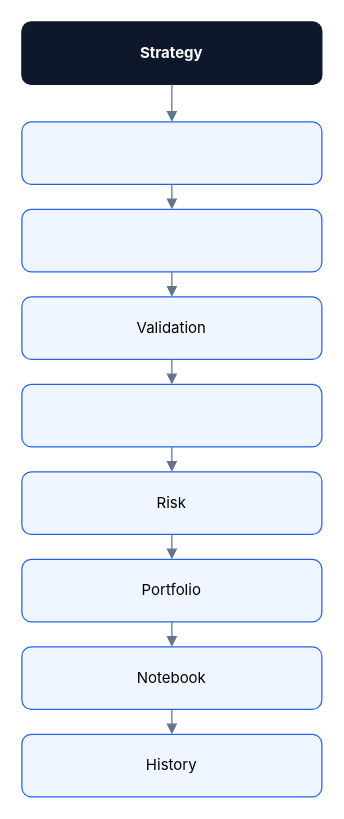
This 344x819 diagram has some shape labels left out. Each missing label, with the centre of its shape:
AI Review: point 171,415
Overview: point 171,152
Research: point 171,240
